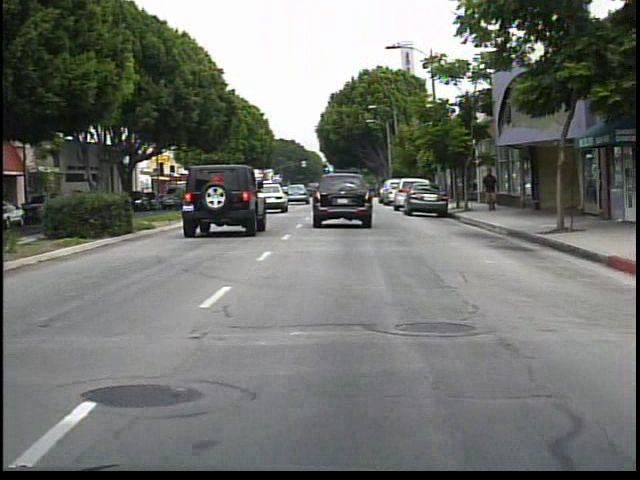person: (479, 166, 504, 215)
